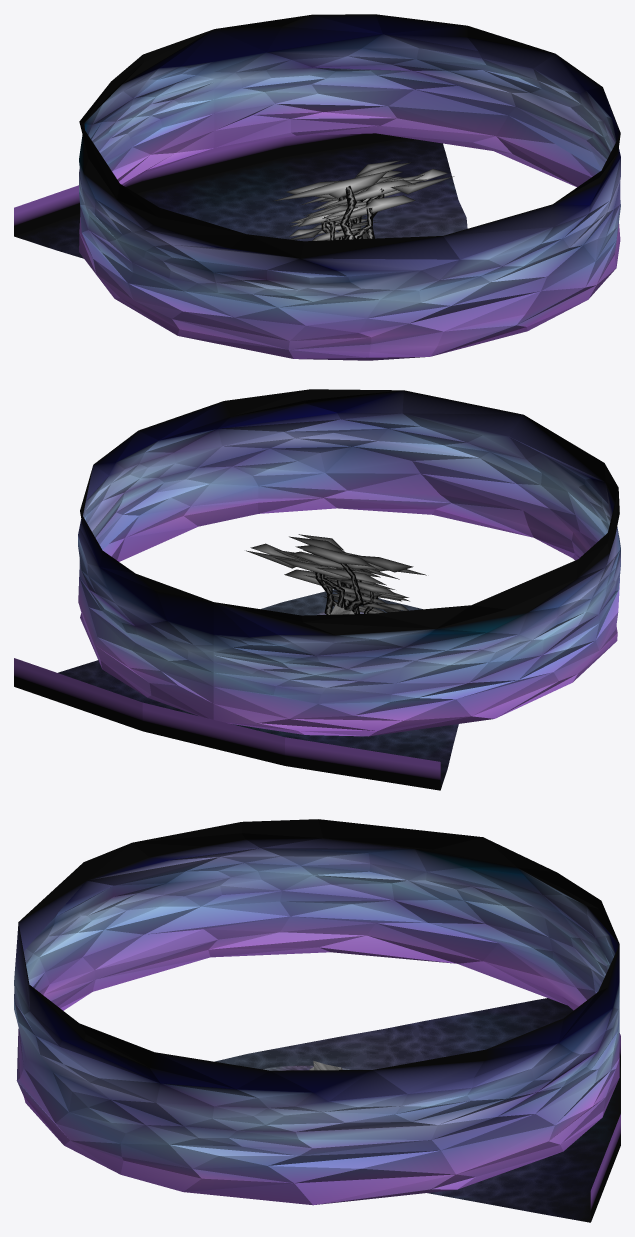
The picture shows the model from 3 angles, top to bottom: view 1: azimuth 30°, elevation 25°; view 2: azimuth 150°, elevation 25°; view 3: azimuth 270°, elevation 25°; orthographic projection. The views are drawn at different scales.
Visible parts, largest first — view 1: extra_6cf0, extra_6138, extra_5f6c, part10, part26, part22; view 2: extra_6cf0, extra_5f6c, extra_6138, part12, part28, part27, part11; view 3: extra_6cf0, extra_6138, extra_5f6c.
Boxes of the visible parts, box(x1,y1,x2,y2) form: extra_6cf0: box(79, 14, 620, 360); extra_6138: box(14, 138, 467, 258); extra_5f6c: box(14, 133, 404, 236); part10: box(273, 160, 400, 239); part26: box(300, 176, 454, 224); part22: box(300, 179, 415, 239); extra_6cf0: box(78, 389, 620, 736); extra_5f6c: box(14, 658, 440, 790); extra_6138: box(58, 589, 458, 789); part12: box(295, 545, 371, 610); part28: box(250, 543, 380, 579); part27: box(289, 552, 386, 585); part11: box(308, 551, 413, 607); extra_6cf0: box(14, 819, 619, 1205); extra_6138: box(215, 998, 620, 1222); extra_5f6c: box(590, 1033, 620, 1221).
Bounding box in the file's own units: 24.24 × 7.19 × 24.29.
Materials: 28 (26 with a texture image).
